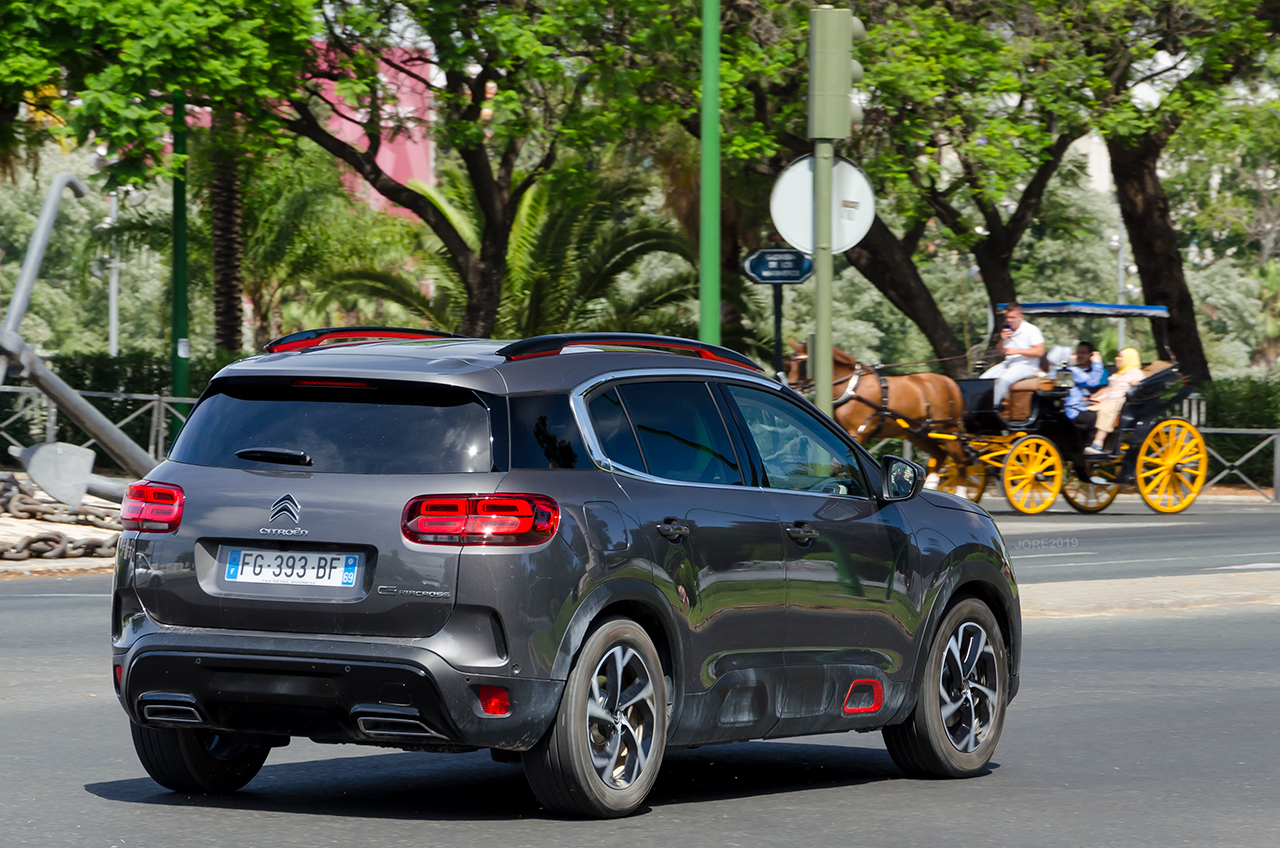licence plate: (219, 543, 365, 591)
